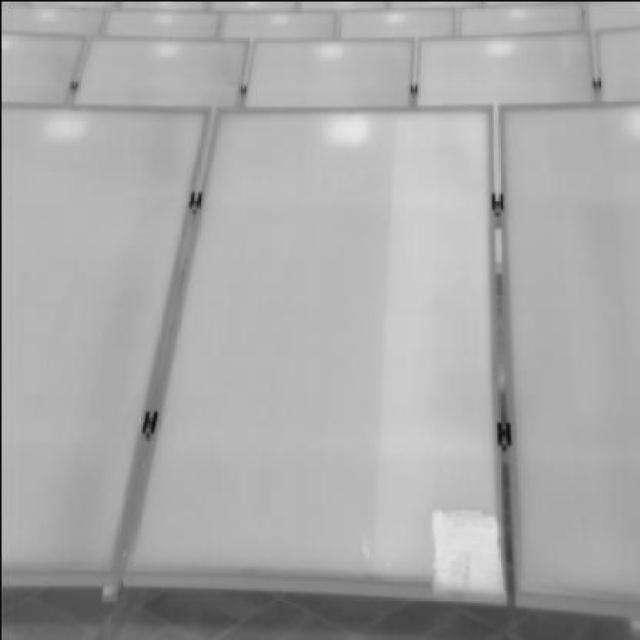hotspot: (422, 505, 506, 600)
